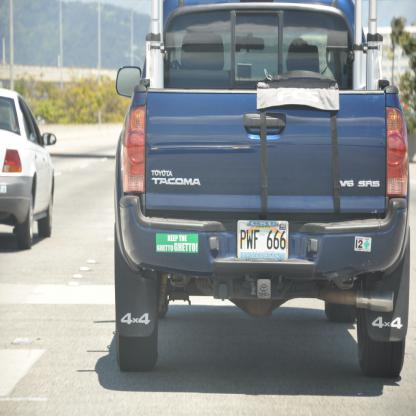Car: (0, 88, 57, 250)
Truck: (116, 0, 410, 377), (0, 88, 57, 248)
